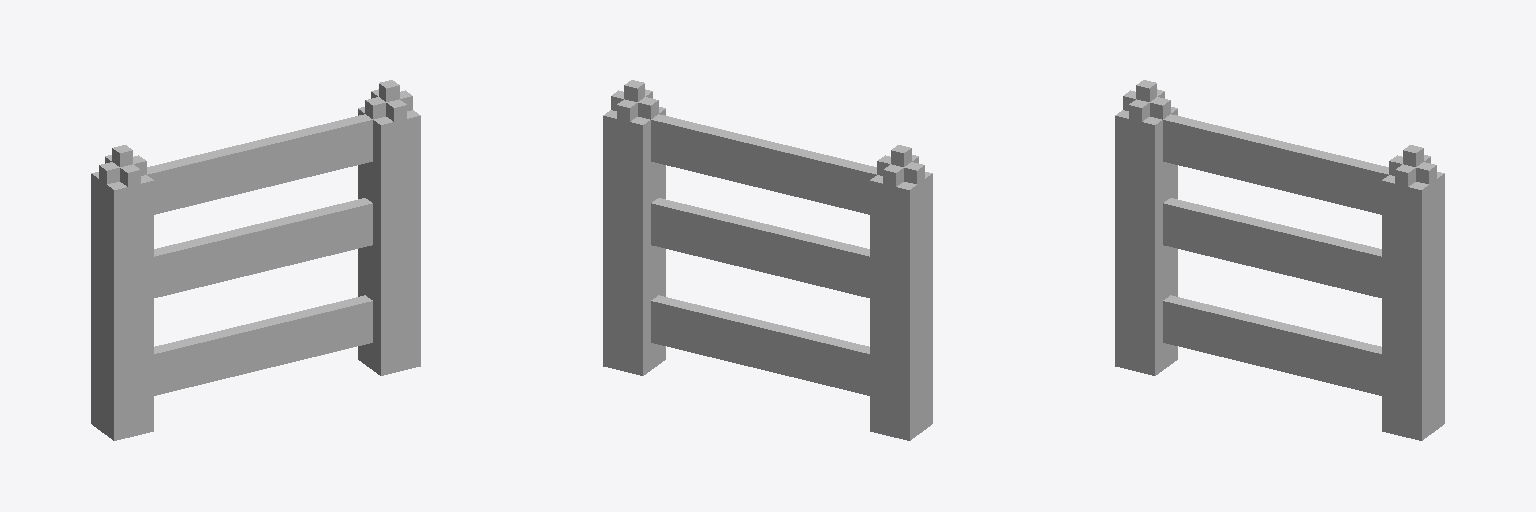
Rendered from Cerca.obj.
3 renders of one model, left to right at view 1: azimuth 30°, elevation 25°; view 2: azimuth 150°, elevation 25°; view 3: azimuth 330°, elevation 25°, orthographic.
Parts seen in each view (by area): view 1: object 1; view 2: object 1; view 3: object 1.
Part boxes in pixels (left/top/right/bottom): object 1: left=91, top=80, right=420, bottom=440; object 1: left=603, top=80, right=932, bottom=440; object 1: left=1115, top=80, right=1444, bottom=440.
Bounding box in the file's own units: 2.3 × 2 × 0.3.